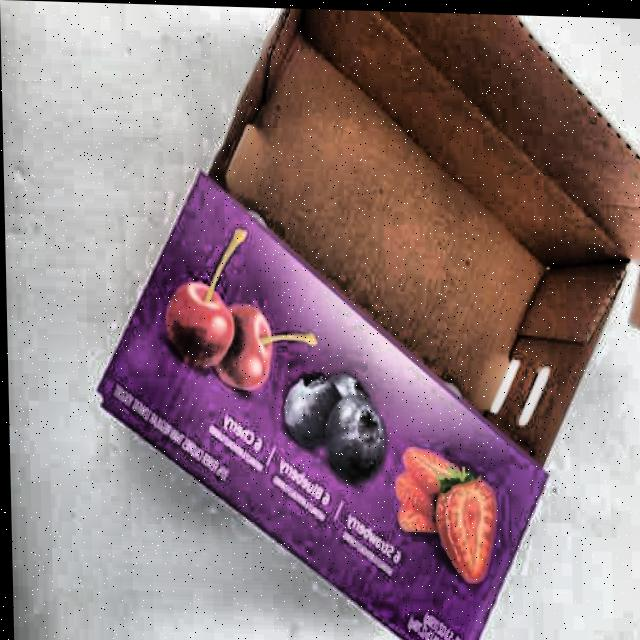cardboard: (92, 164, 556, 640)
